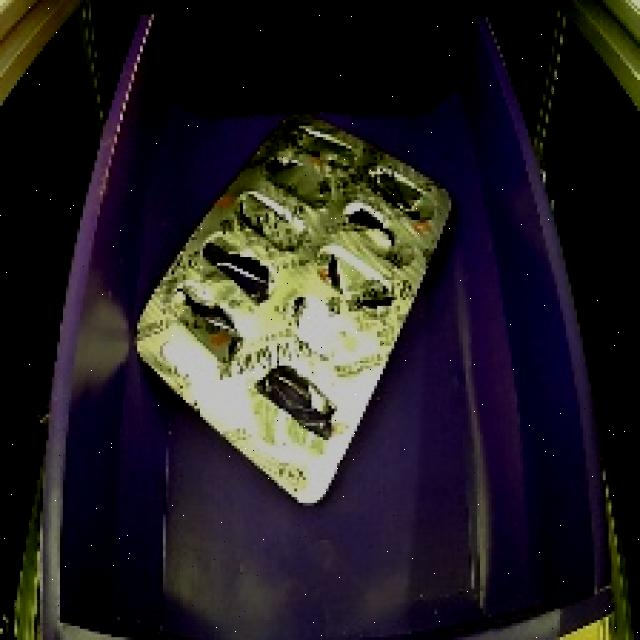med_plate: (116, 100, 463, 522)
